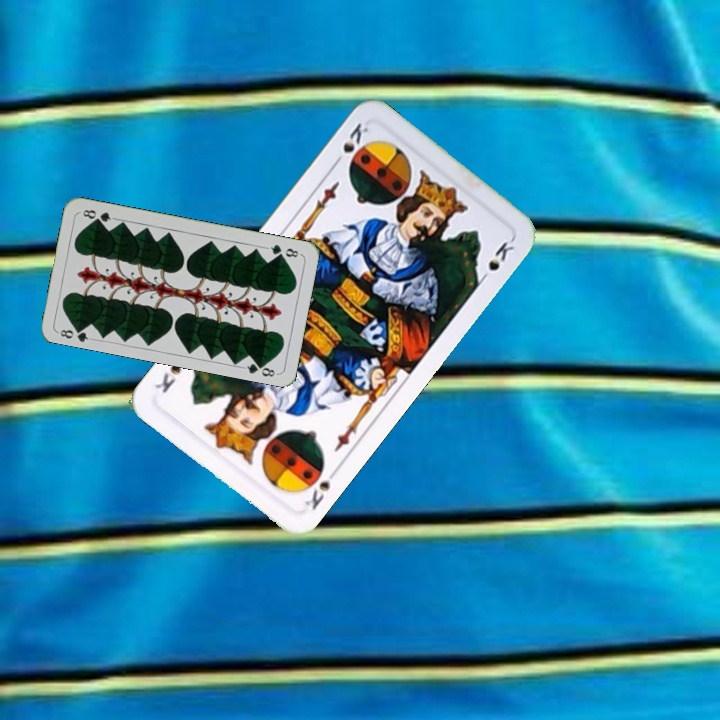G8: (54, 322, 95, 344), (263, 240, 303, 260)
SK: (328, 118, 372, 169), (301, 463, 341, 513)
